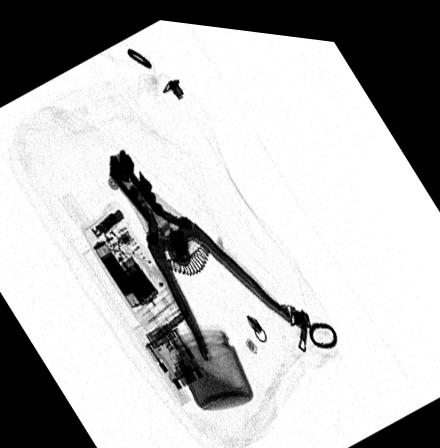Pliers: (107, 145, 297, 356)
